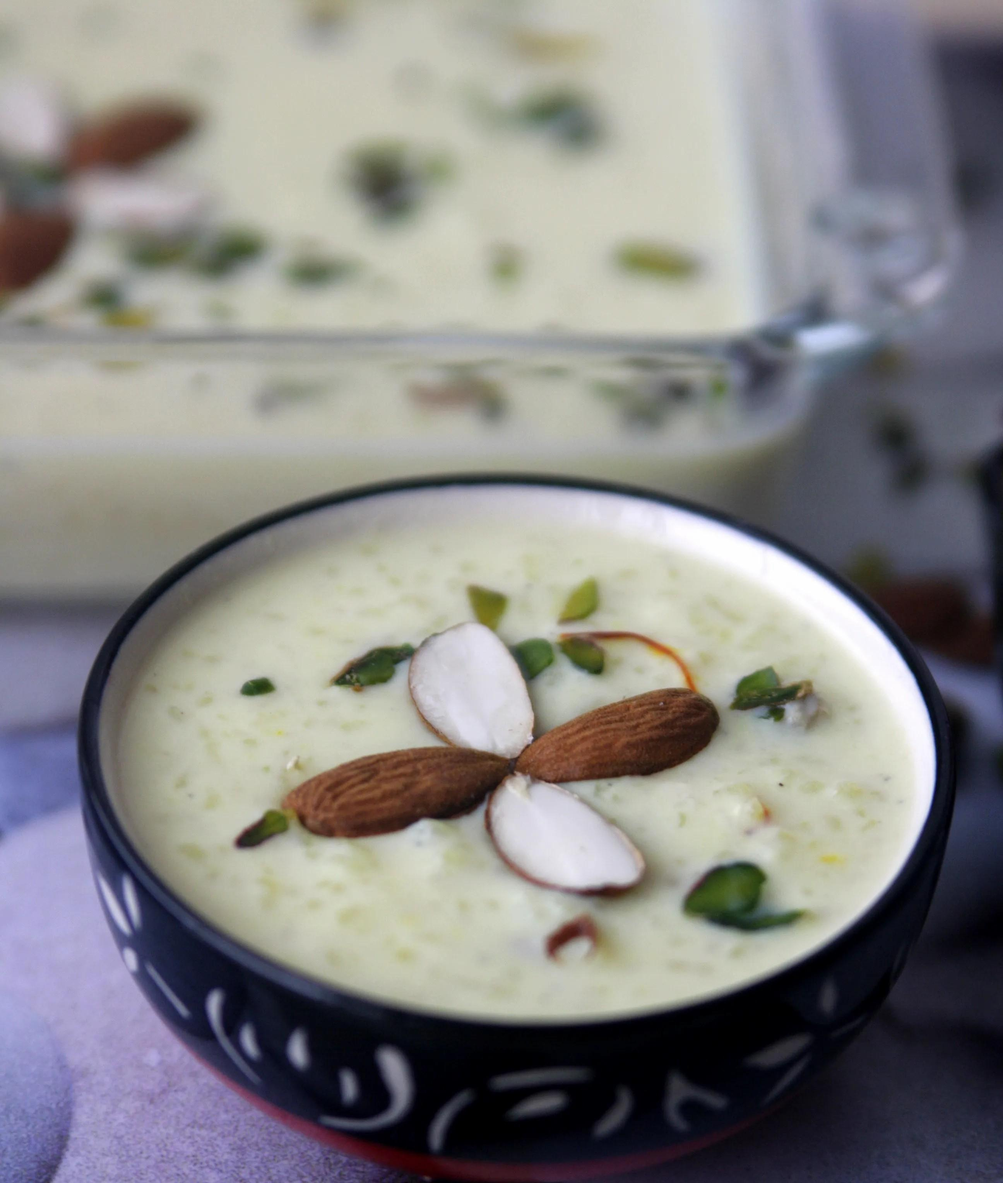Kheer: (0, 2, 815, 571), (98, 498, 923, 1004)
